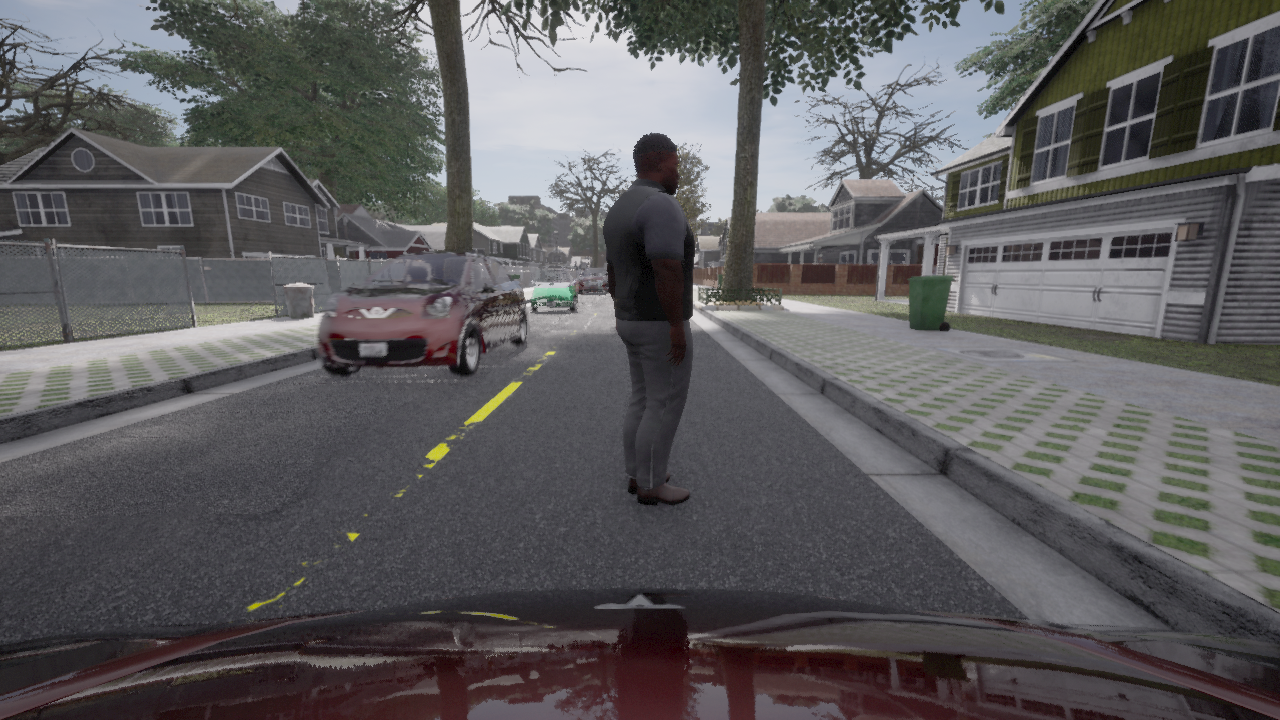cyclist: (0, 588, 1279, 719), (316, 251, 528, 376), (530, 268, 577, 311), (578, 267, 609, 293)
pedestrian: (602, 133, 693, 505)
